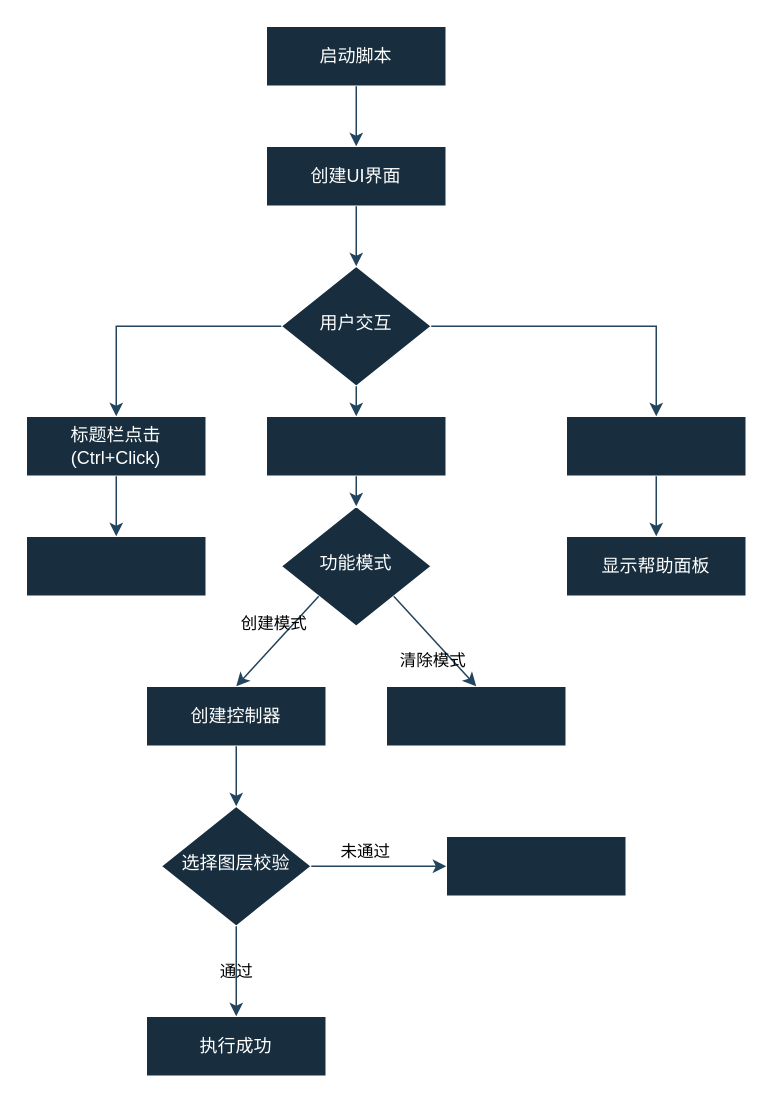
This 773x1103 diagram has some shape labels left out. The centre of each missing label's shape, as x and y in pixels:
"主功能按钮点击" goes at point 355,445.
"帮助按钮点击" goes at point 655,445.
"检查更新" goes at point 115,565.
"清除控制器" goes at point 475,715.
"错误提示" goes at point 535,865.
